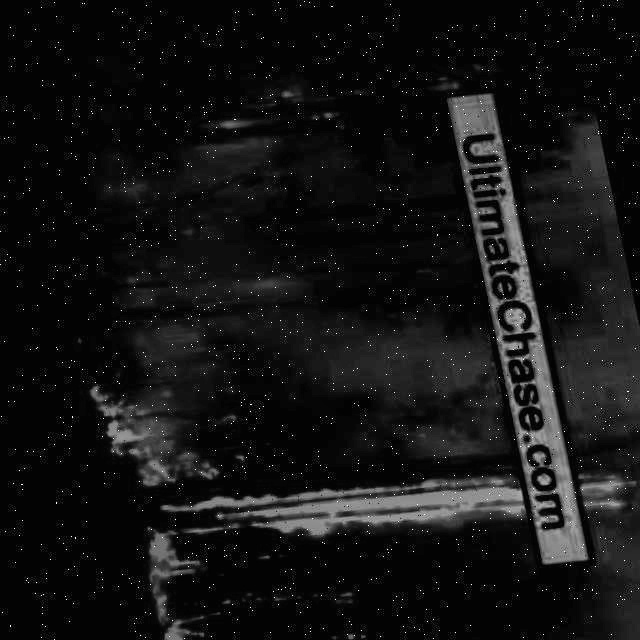Fire: (128, 424, 530, 605), (97, 379, 264, 500), (140, 578, 181, 640)
Smoke: (0, 0, 509, 528), (506, 116, 640, 463)
